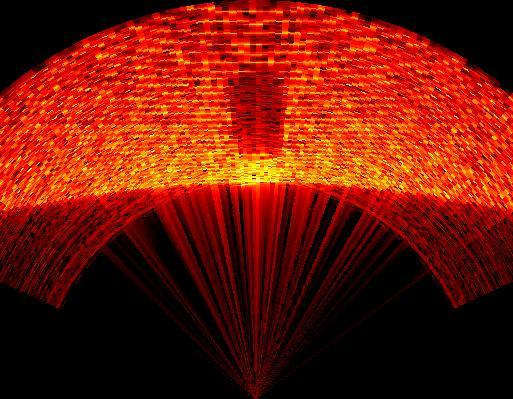box_crate: (224, 69, 297, 163)
